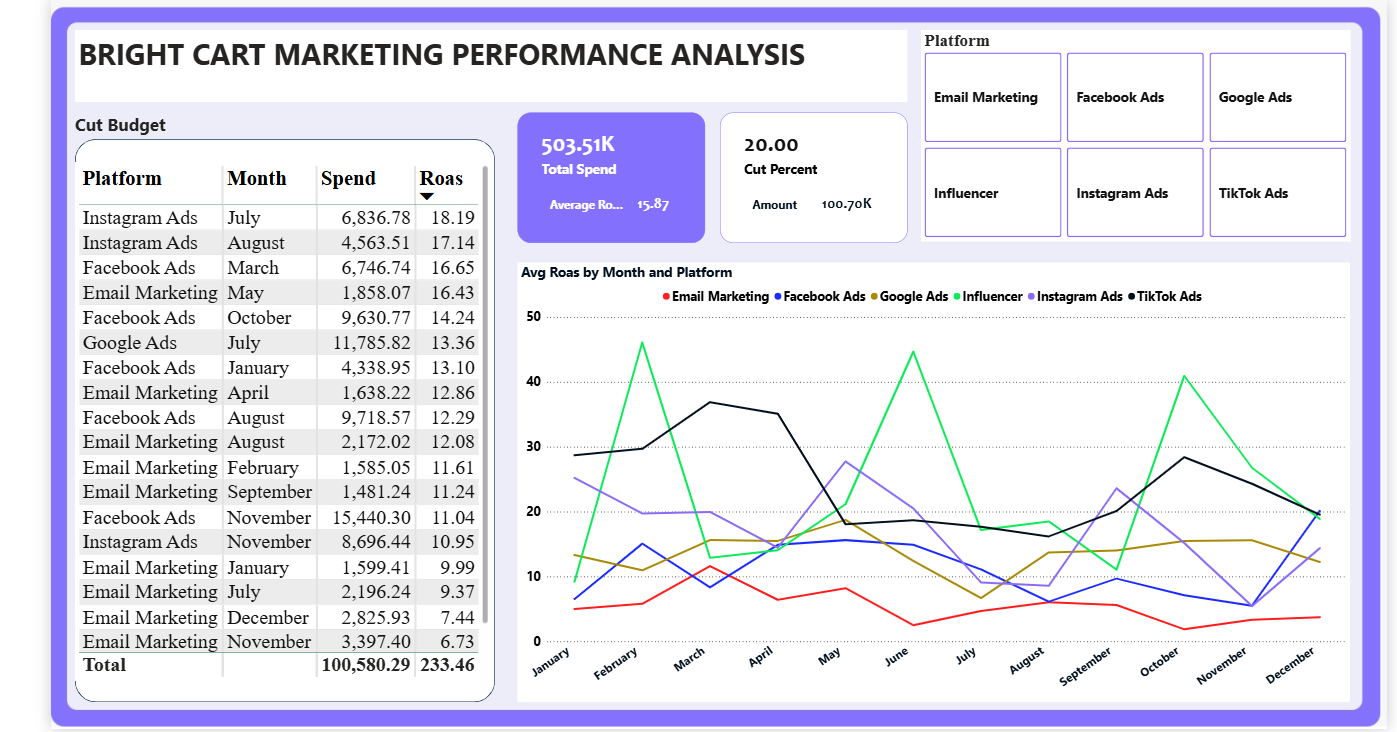

What the dashboard file says about the page in this screenshot:
{"tool":"powerbi","page":{"name":"Page 2","canvas":[1980,1080],"ordinal":1},"visuals":[{"type":"lineChart","title":"Avg Roas by Month and Platform","fields":{"Category":["marketing_spend.month.Variation.Date Hierarchy.Month"],"Series":["marketing_spend.platform"],"Y":["Avg(marketing_spend.roas)"]},"box":[691.1,388.9,1233.3,651.1],"z":0},{"type":"cardVisual","fields":{"Data":["marketing_spend.Total Spend"]},"box":[691.1,166.7,277.8,193.3],"z":1000},{"type":"cardVisual","fields":{"Data":["marketing_spend.Cut Percent"]},"box":[991.1,166.7,277.8,193.3],"z":2000},{"type":"shape","title":"Cut Budget","box":[35.6,166.7,622.2,873.3],"z":3000,"group":"g1"},{"type":"group","id":"g1","title":"Group 2","box":[35.6,166.7,622.2,873.3],"z":3000},{"type":"textbox","box":[35.6,44.4,1233.3,106.7],"z":4000},{"type":"tableEx","fields":{"Values":["marketing_spend.platform","marketing_spend.month.Variation.Date Hierarchy.Month","marketing_spend.Total Spend","Sum(marketing_spend.roas)"]},"box":[35.6,239.5,617.2,768.2],"z":4500,"group":"g1"},{"type":"advancedSlicerVisual","title":"Platform","fields":{"Values":["marketing_spend.platform"]},"box":[1288.6,45.5,636.4,313.6],"z":5000}]}

Visuals, with their boxes on the page's 1980x1080 design canvas (x1, y1, x2, y2). These are canvas units, not pixel positions in the 1397x732 screenshot, which may show the page scaled, cropped or inside an application window:
"Avg Roas by Month and Platform" lineChart: <box>691,389,1924,1040</box>
cardVisual - marketing_spend.Total Spend: <box>691,167,969,360</box>
cardVisual - marketing_spend.Cut Percent: <box>991,167,1269,360</box>
"Cut Budget" shape: <box>36,167,658,1040</box>
"Group 2" group: <box>36,167,658,1040</box>
textbox: <box>36,44,1269,151</box>
tableEx - marketing_spend.platform x marketing_spend.month.Variation.Date Hierarchy.Month: <box>36,240,653,1008</box>
"Platform" advancedSlicerVisual: <box>1289,46,1925,359</box>
